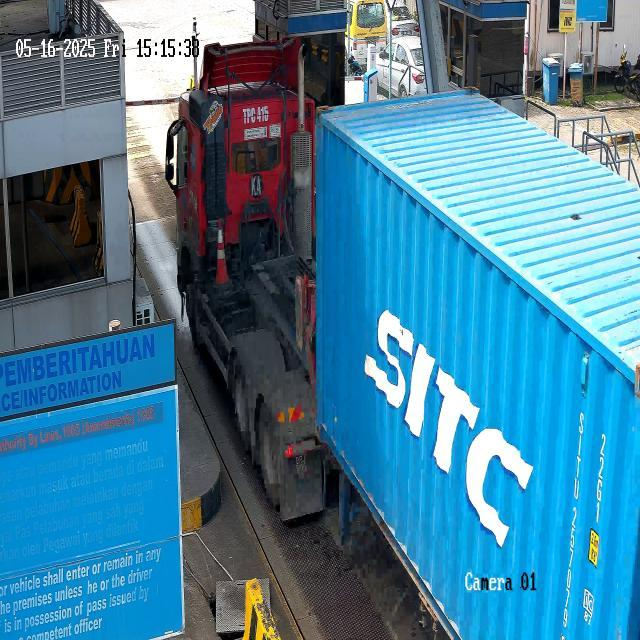ISO: (591, 428, 611, 528)
container_number: (543, 403, 589, 640)
